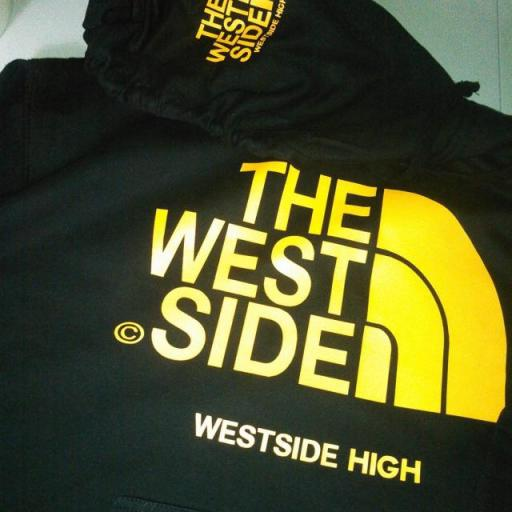The North Face: (354, 186, 508, 426)
